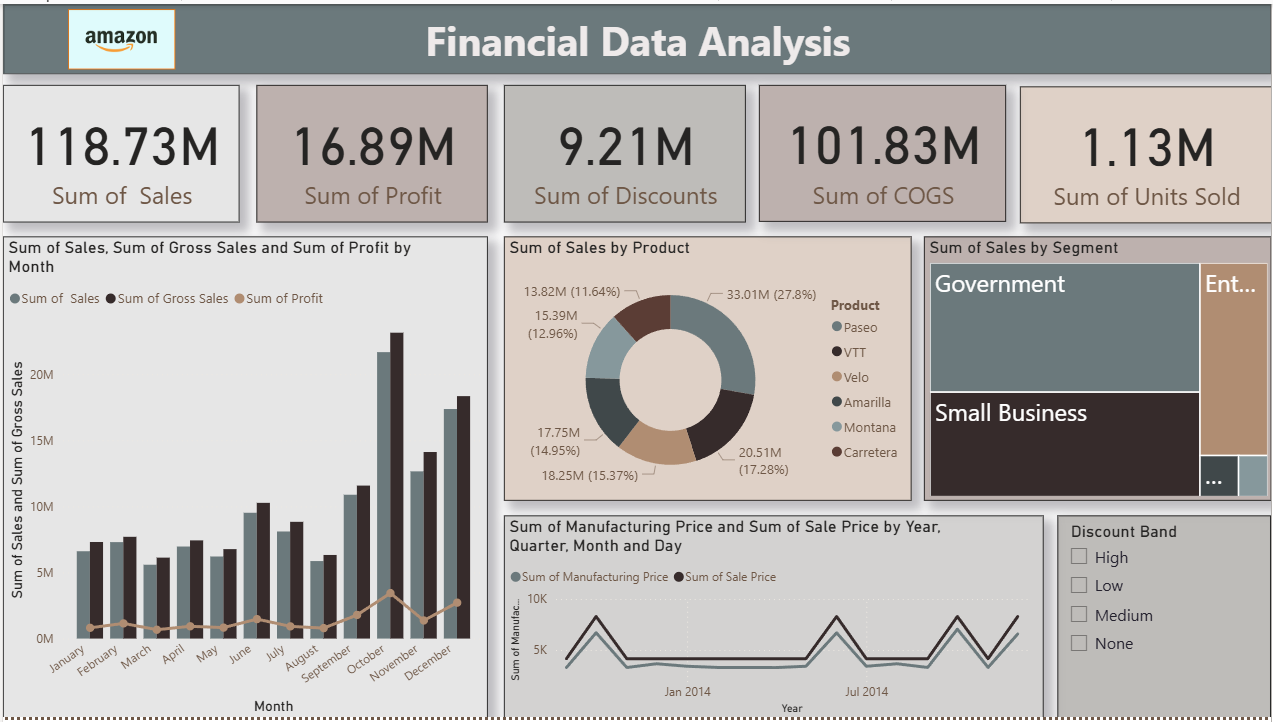

This screenshot's page, from the dashboard's own definition file:
{"tool":"powerbi","page":{"name":"Financial Analysis","canvas":[1280,720],"ordinal":3},"visuals":[{"type":"shape","box":[0,0,1280.3,70.9],"z":0},{"type":"card","fields":{"Values":["Sum(financials. Sales)"]},"box":[0,81.9,238.5,138.8],"z":1000},{"type":"card","fields":{"Values":["Sum(financials.Profit)"]},"box":[256.3,81.9,233.2,138.8],"z":2000},{"type":"card","fields":{"Values":["Sum(financials.Units Sold)"]},"box":[1026,83.2,254.3,138.2],"z":3000},{"type":"card","fields":{"Values":["Sum(financials.Discounts)"]},"box":[505.5,81.9,243.8,138.8],"z":4000},{"type":"lineClusteredColumnComboChart","fields":{"Category":["financials.Date.Variation.Date Hierarchy.Year","financials.Date.Variation.Date Hierarchy.Quarter","financials.Date.Variation.Date Hierarchy.Month","financials.Date.Variation.Date Hierarchy.Day"],"Y":["Sum(financials. Sales)","Sum(financials.Gross Sales)"],"Y2":["Sum(financials.Profit)"]},"box":[0,234.9,489.4,485.9],"z":5000},{"type":"slicer","fields":{"Values":["financials.Discount Band"]},"box":[1064.3,516.1,215.4,204.7],"z":6000},{"type":"donutChart","fields":{"Y":["Sum(financials. Sales)"],"Category":["financials.Product"]},"box":[505.5,234.9,411.1,267],"z":7000},{"type":"lineChart","fields":{"Y":["Sum(financials.Manufacturing Price)","Sum(financials.Sale Price)"],"Category":["financials.Date.Variation.Date Hierarchy.Year","financials.Date.Variation.Date Hierarchy.Quarter","financials.Date.Variation.Date Hierarchy.Month","financials.Date.Variation.Date Hierarchy.Day"]},"box":[505.5,516.1,544.6,204.7],"z":8000},{"type":"treemap","fields":{"Group":["financials.Segment"],"Values":["Sum(financials. Sales)"]},"box":[929.4,234.8,351,266.6],"z":9000},{"type":"card","fields":{"Values":["Sum(financials.COGS)"]},"box":[763,81.9,249.5,138.2],"z":10000},{"type":"image","box":[59.9,0,118.6,70.9],"z":12000}]}

Visuals, with their boxes in screenshot pixels (x1, y1, x2, y2), scaled from the page's 1280x720 canvas onto the 1273x722 screenshot:
shape: bbox=[0, 0, 1272, 71]
card - Sum(financials. Sales): bbox=[0, 82, 237, 221]
card - Sum(financials.Profit): bbox=[255, 82, 487, 221]
card - Sum(financials.Units Sold): bbox=[1020, 83, 1272, 222]
card - Sum(financials.Discounts): bbox=[503, 82, 745, 221]
lineClusteredColumnComboChart - financials.Date.Variation.Date Hierarchy.Year x financials.Date.Variation.Date Hierarchy.Quarter: bbox=[0, 236, 487, 721]
slicer - financials.Discount Band: bbox=[1058, 518, 1272, 721]
donutChart - Sum(financials. Sales) x financials.Product: bbox=[503, 236, 912, 503]
lineChart - Sum(financials.Manufacturing Price) x Sum(financials.Sale Price): bbox=[503, 518, 1044, 721]
treemap - financials.Segment x Sum(financials. Sales): bbox=[924, 235, 1272, 503]
card - Sum(financials.COGS): bbox=[759, 82, 1007, 221]
image: bbox=[60, 0, 178, 71]
